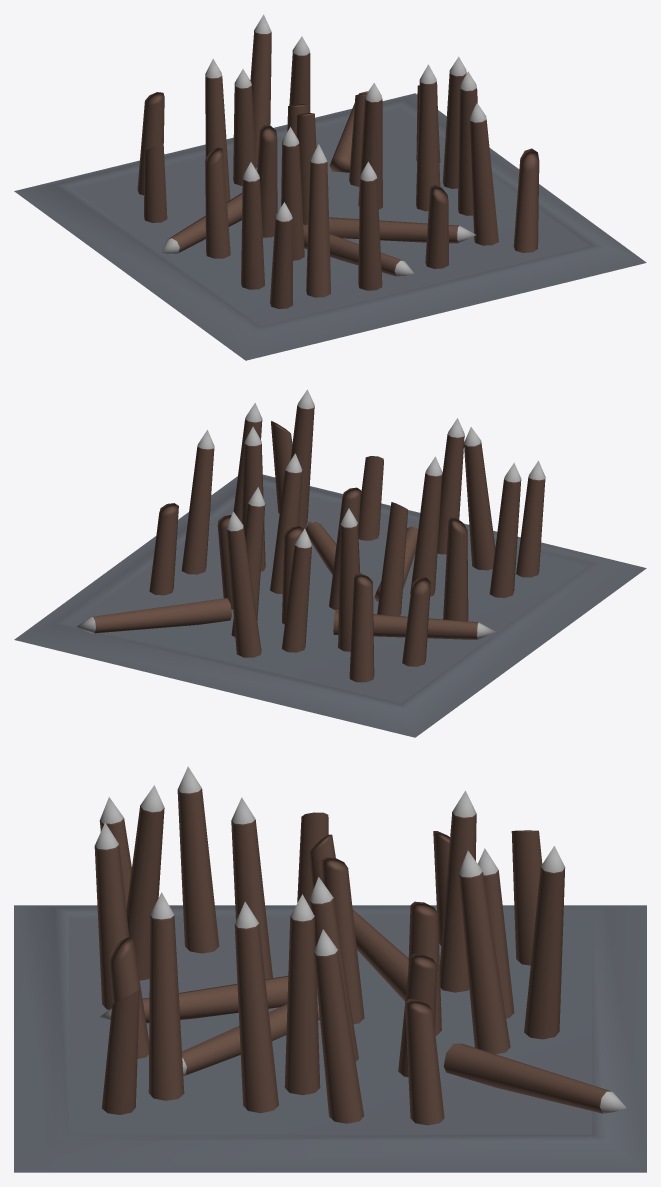
The model's file is spikeTrap_broken.fbx.
3 views of the same model, one above another, from view 1: azimuth 30°, elevation 25°; view 2: azimuth 150°, elevation 25°; view 3: azimuth 270°, elevation 25° (orthographic). The views are drawn at different scales.
Visible parts, largest first — view 1: spikeTrap_broken; view 2: spikeTrap_broken; view 3: spikeTrap_broken.
Part boxes in pixels (bbox=[...]): spikeTrap_broken: bbox=[14, 14, 646, 360]; spikeTrap_broken: bbox=[14, 389, 646, 737]; spikeTrap_broken: bbox=[14, 766, 646, 1172].
Bounding box in the file's own units: 228 × 100 × 228.
